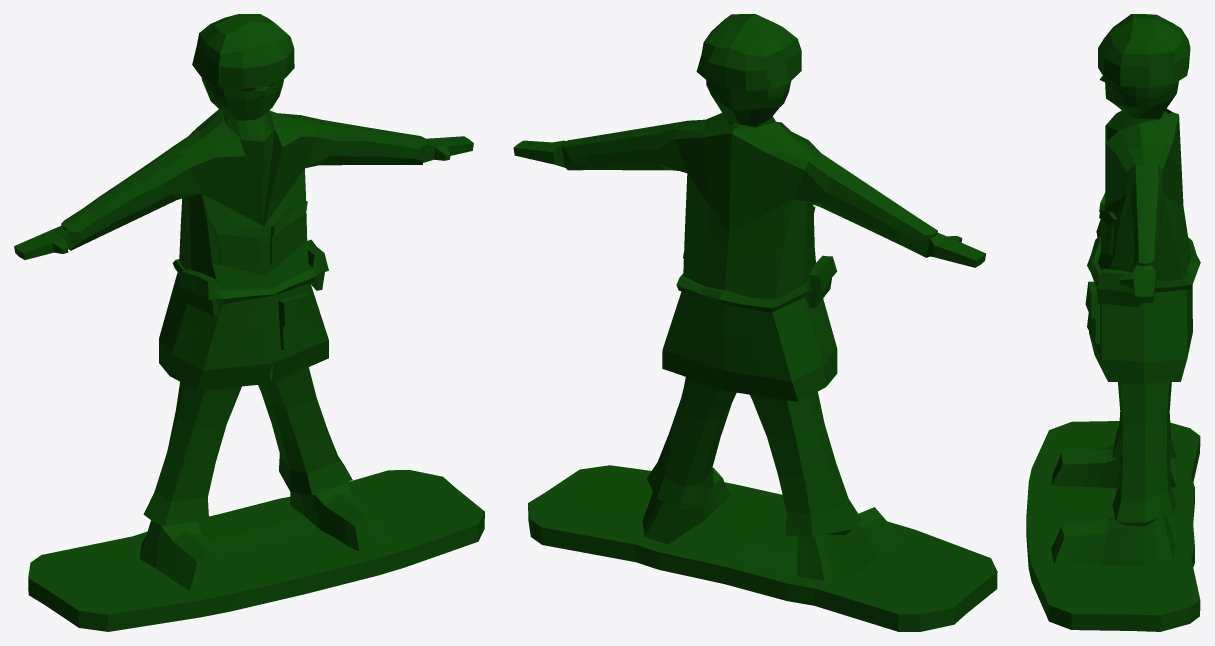
The model's file is Capitão.fbx.
3 renders of one model, left to right at view 1: azimuth 30°, elevation 25°; view 2: azimuth 150°, elevation 25°; view 3: azimuth 270°, elevation 25°, orthographic. The views are drawn at different scales.
Visible parts, largest first — view 1: Capitão; view 2: Capitão; view 3: Capitão.
Boxes of the visible parts, <box> form: Capitão: <box>14,14,484,631</box>; Capitão: <box>513,14,997,631</box>; Capitão: <box>1026,14,1200,631</box>.
Bounding box in the file's own units: 292 × 329 × 101.
